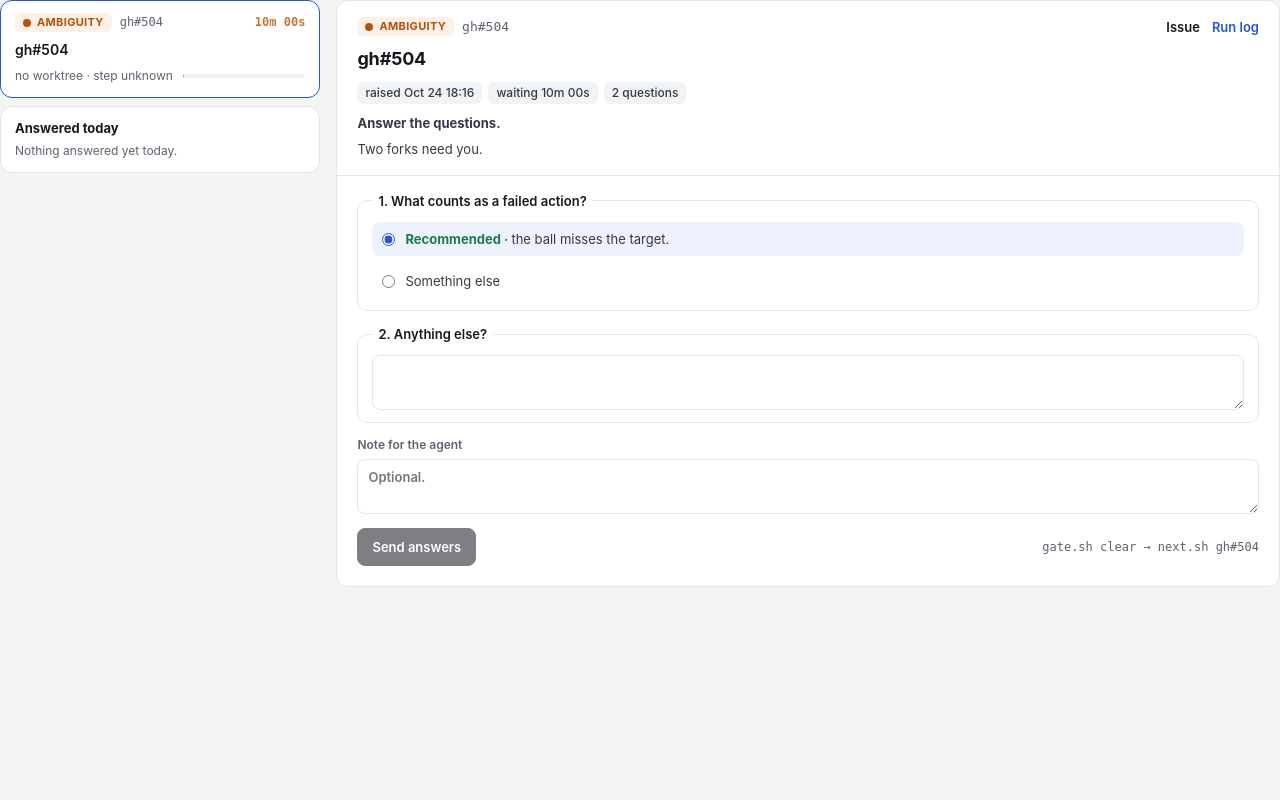
Test case: SomethingElsePicked_OpensATextBox
Click the radio button labelled "Something else".
click(389, 281)  # box [382, 275, 395, 288]
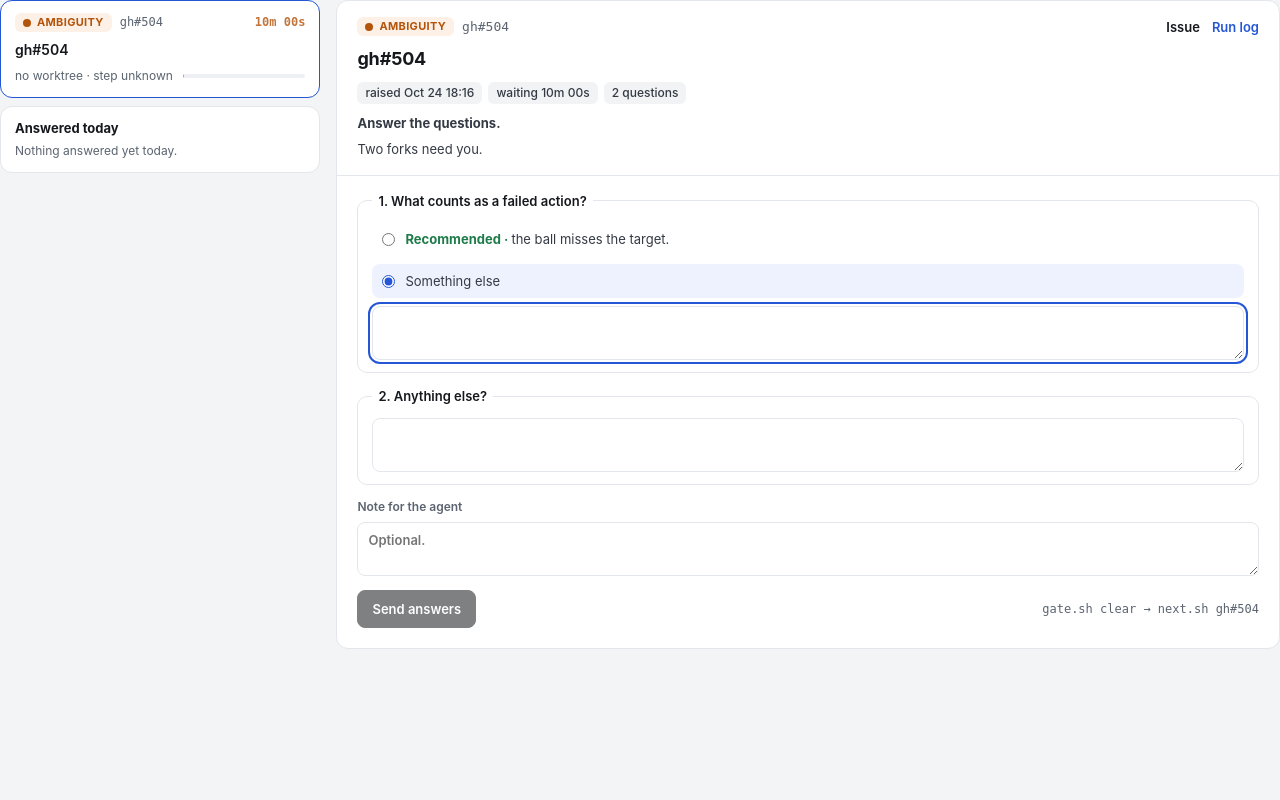
Expected: the text box named "Your answer to question 1" is shown, [372, 306, 1244, 360]
